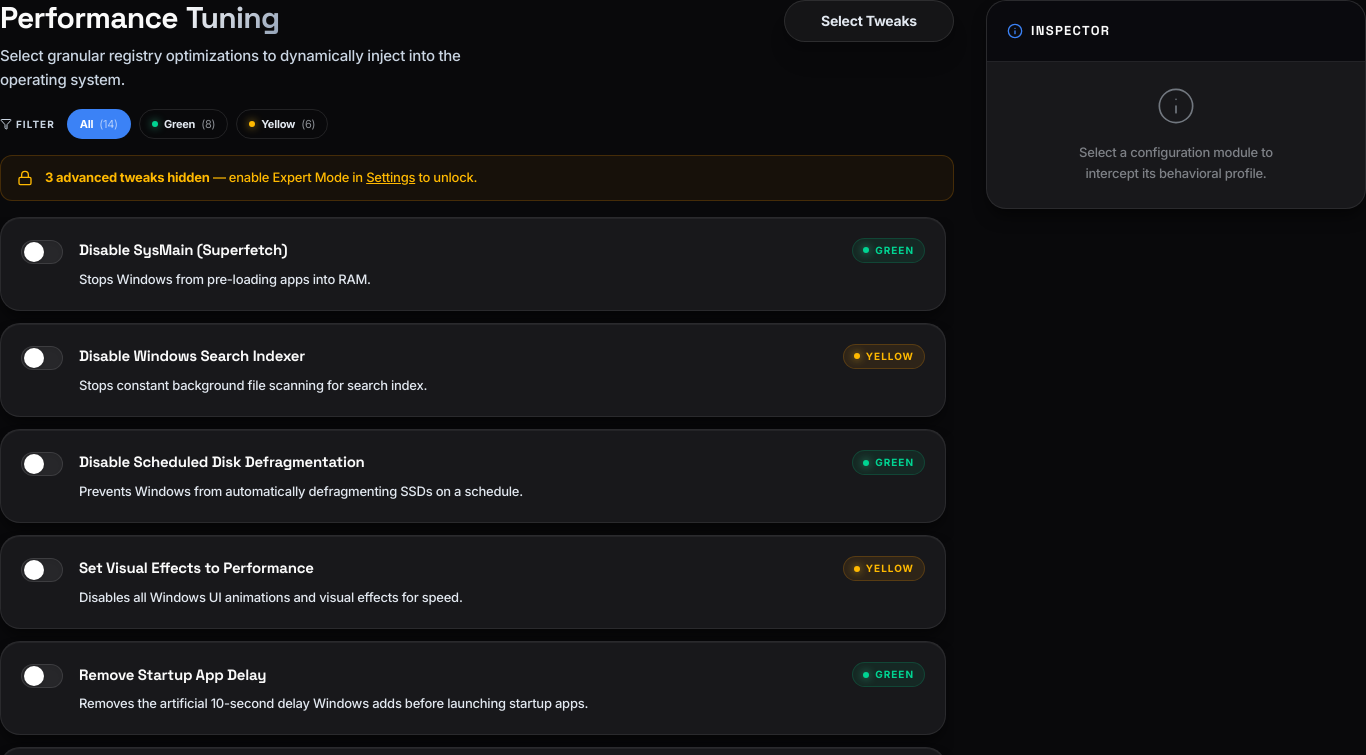
Test: TweaksPage › opens inspector panel when a tweak is clicked
This screenshot has width=1366, height=755.
# Click the tweak name text — event bubbles up to the card's onClick
Click the heading "Disable SysMain (Superfetch)": (183, 250) [79,239,287,262]
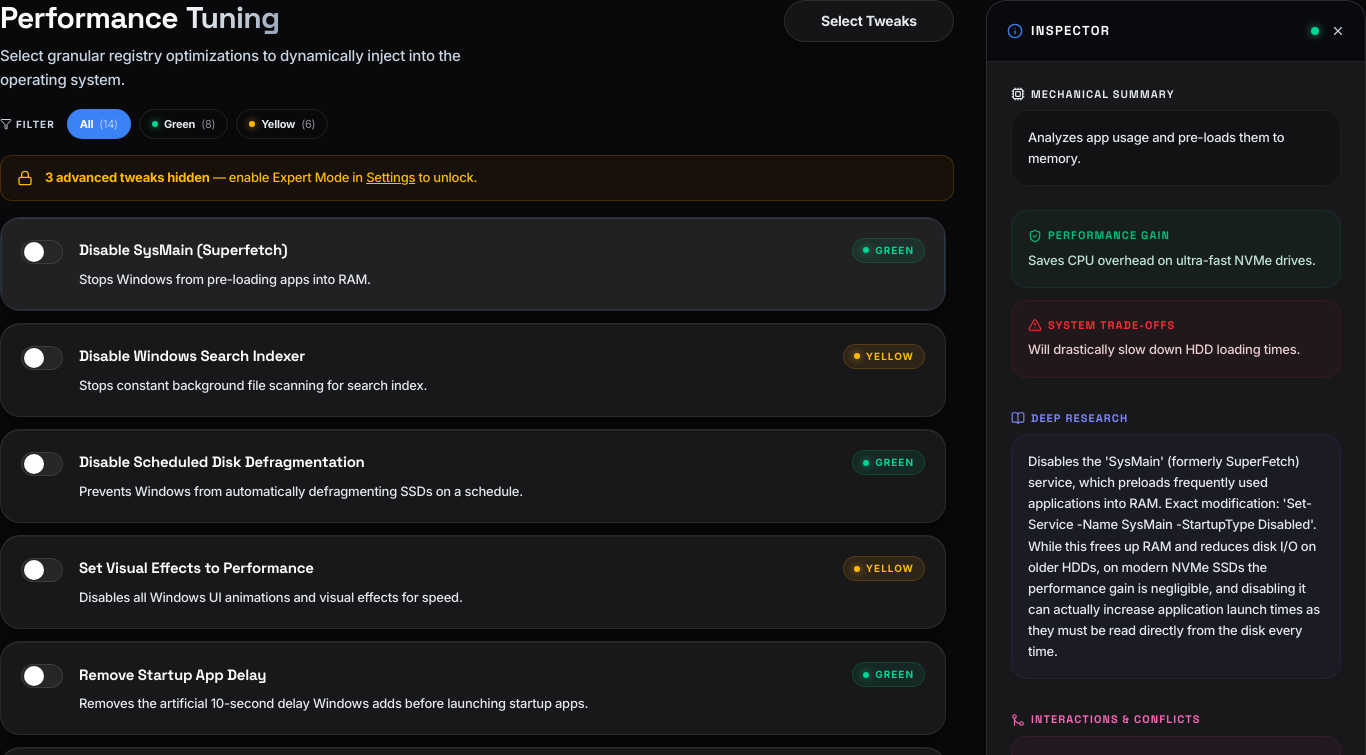
Now the heading "Mechanical Summary" is shown, box [1011,86,1175,101]
